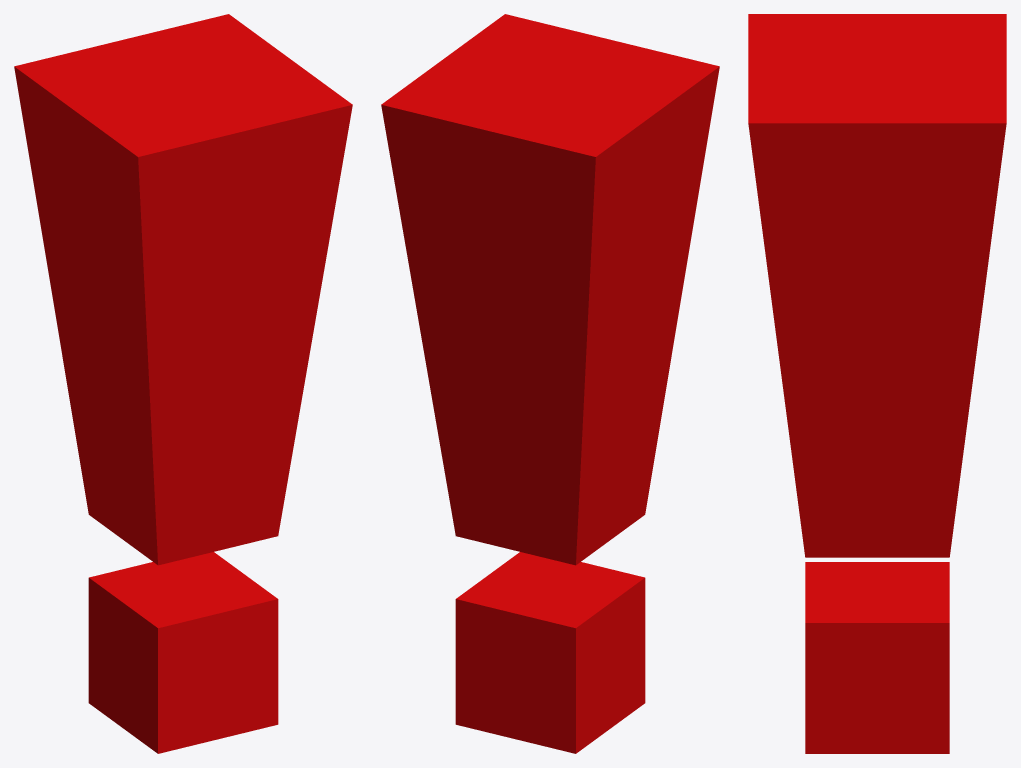
Rendered from exclam2.fbx.
3 renders of one model, left to right at view 1: azimuth 30°, elevation 25°; view 2: azimuth 150°, elevation 25°; view 3: azimuth 270°, elevation 25°, orthographic. The views are drawn at different scales.
Parts seen in each view (by area): view 1: Cube; view 2: Cube; view 3: Cube.
Part boxes in pixels (x1,y1,x2,y2): Cube: [14, 14, 352, 753]; Cube: [381, 14, 719, 753]; Cube: [748, 14, 1006, 753].
Bounding box in the file's own units: 358 × 1000 × 358.
